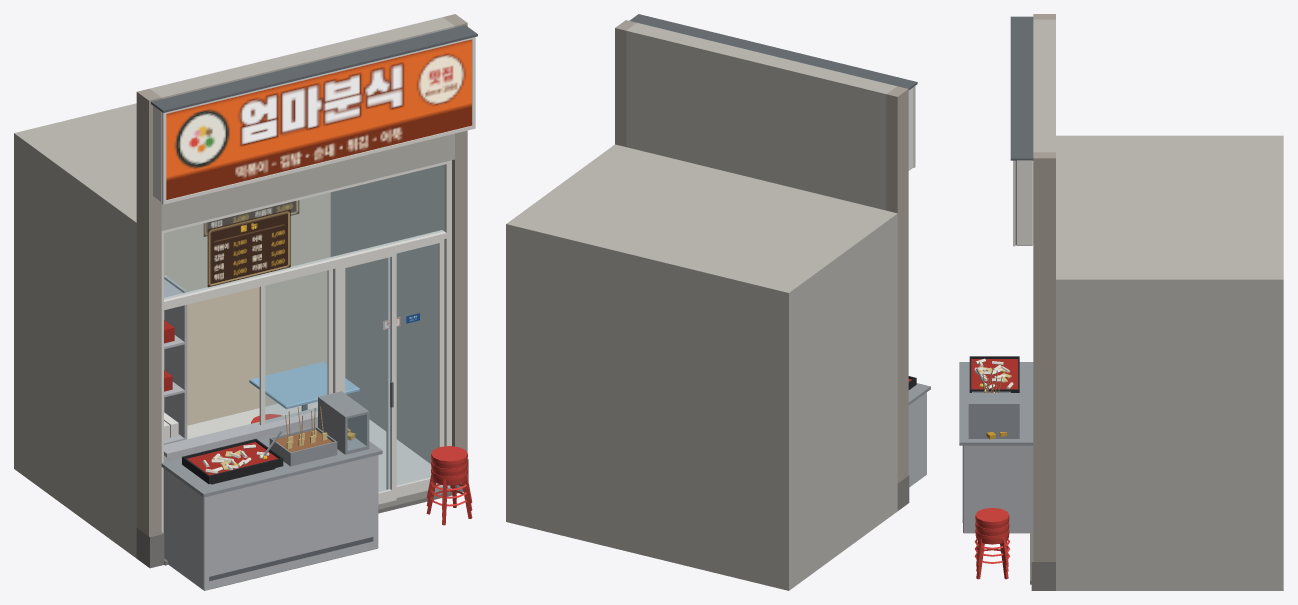
File: SC_Shop_Bunsik.gltf
3 renders of one model, left to right at view 1: azimuth 30°, elevation 25°; view 2: azimuth 150°, elevation 25°; view 3: azimuth 270°, elevation 25°, orthographic. The views are drawn at different scales.
Visible parts, largest first — view 1: SC_Shop_Bunsik; view 2: SC_Shop_Bunsik; view 3: SC_Shop_Bunsik.
Part boxes in pixels (bbox=[...]): SC_Shop_Bunsik: bbox=[14, 14, 477, 590]; SC_Shop_Bunsik: bbox=[506, 14, 930, 590]; SC_Shop_Bunsik: bbox=[959, 14, 1283, 590].
Bounding box in the file's own units: 3 × 4.2 × 2.85.
Materials: 5 (5 with a texture image).
